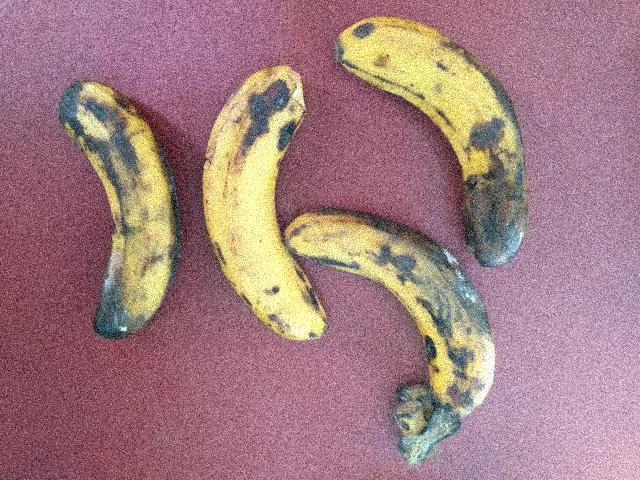overripe: (171, 31, 327, 343)
rotten: (284, 202, 504, 476), (317, 13, 542, 276), (36, 56, 189, 359)
